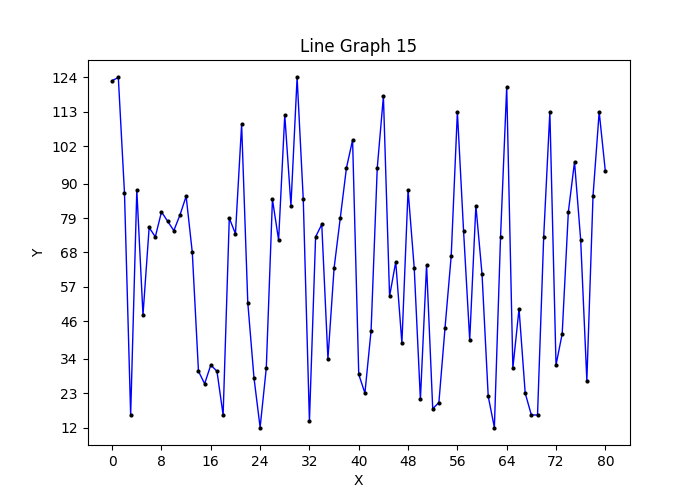cvs: (88, 60, 630, 445)
